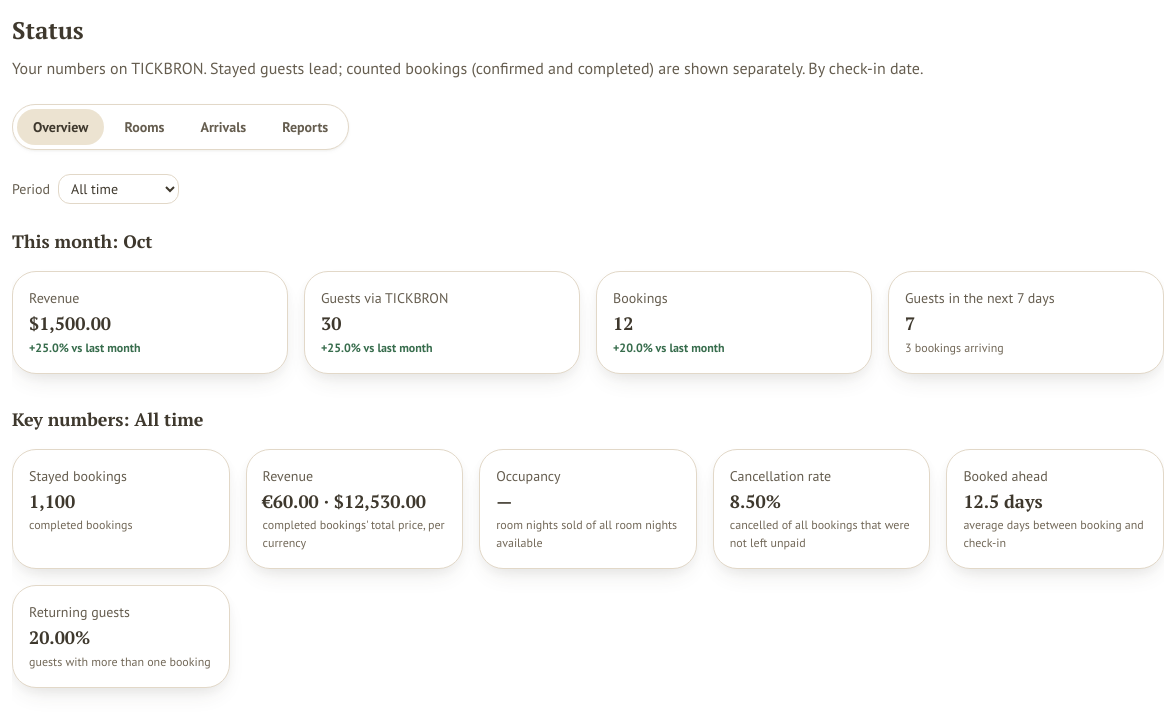
Test: PartnerStatusTab › rooms tab: empty and error states
Click the tab "Rooms": (144, 127) [108,109,180,145]
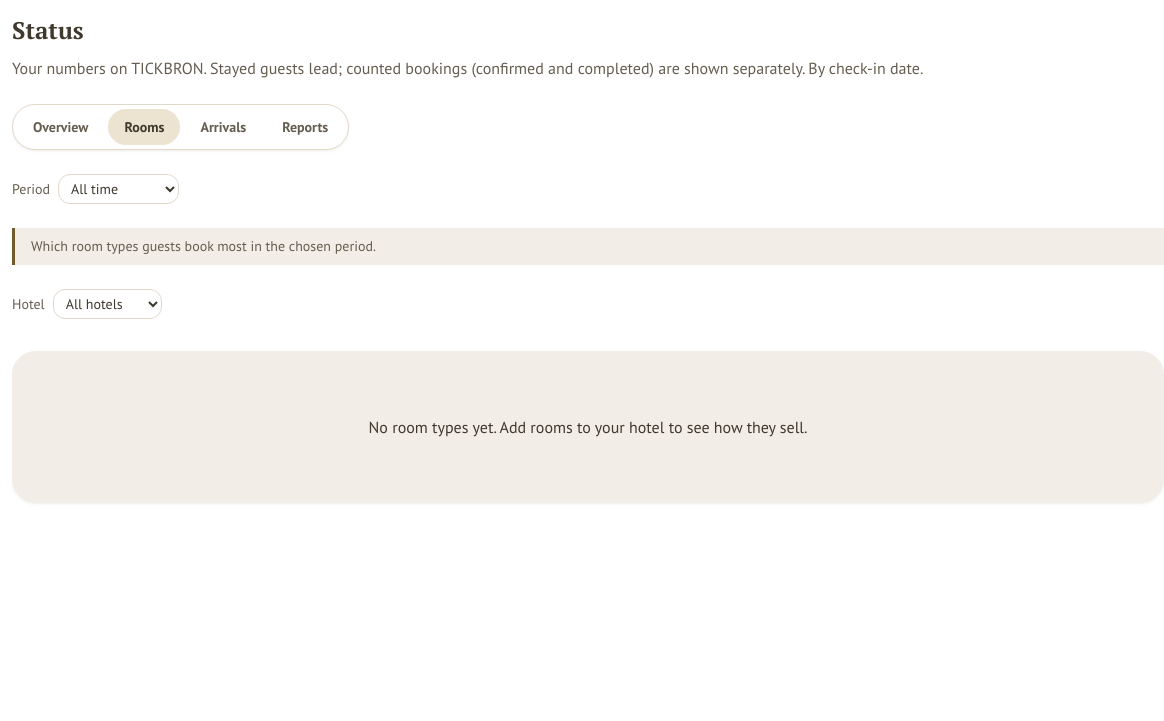
Expected: the text "No room types yet" is shown, [369,417,807,437]
